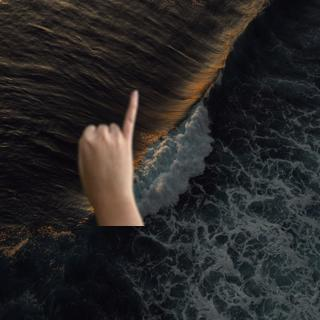Fine: (73, 83, 151, 225)
